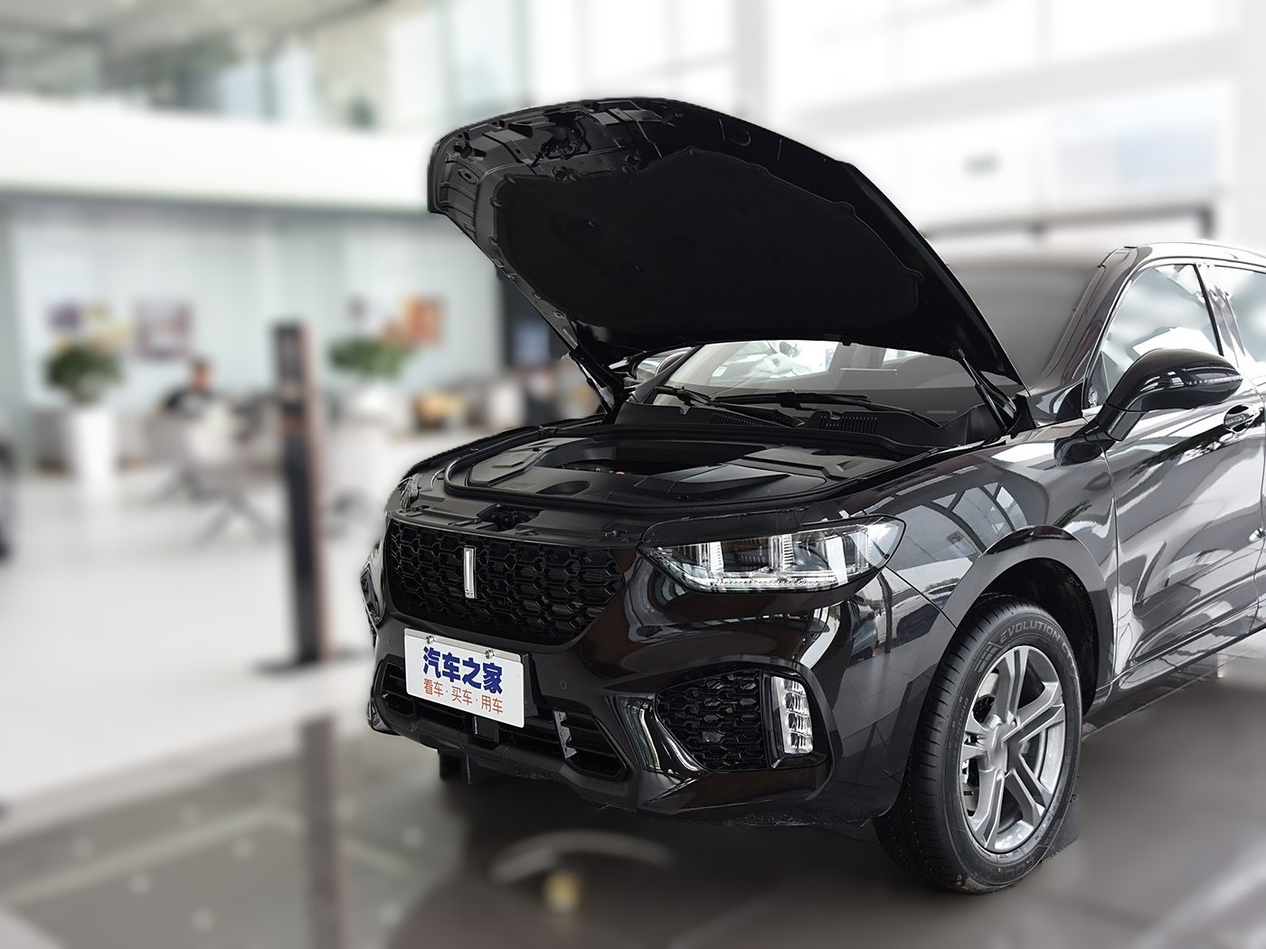WEY: (464, 549, 473, 597)
